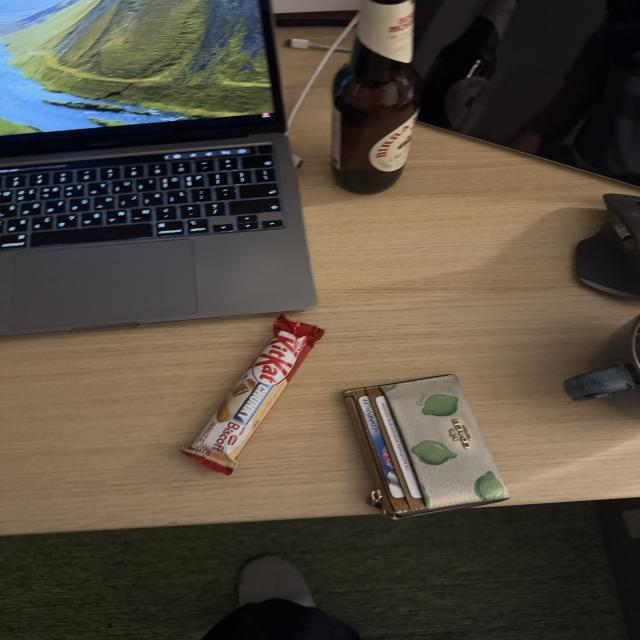beer: (327, 0, 419, 198)
chocolate: (173, 310, 327, 476)
